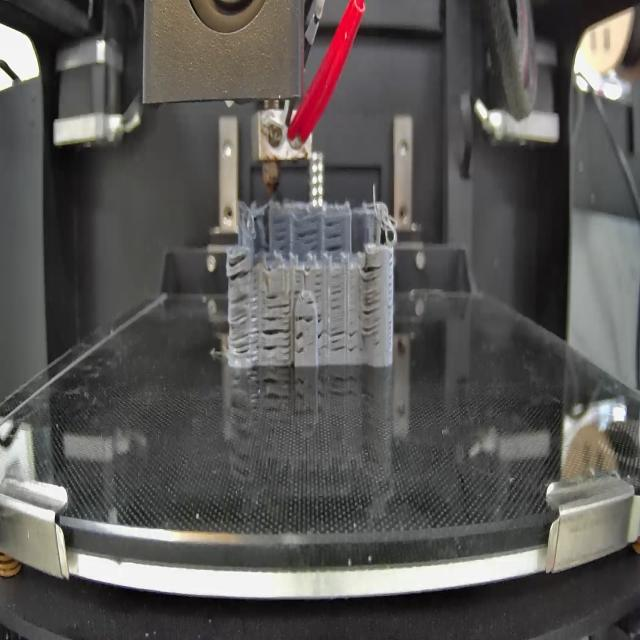cracks: (230, 296, 260, 361), (360, 262, 383, 338), (262, 316, 290, 362), (228, 249, 253, 287), (296, 220, 322, 253), (331, 326, 359, 356), (266, 290, 294, 313), (326, 216, 344, 251), (272, 216, 290, 250), (330, 275, 344, 313), (317, 310, 327, 354), (292, 264, 304, 296), (295, 331, 306, 357), (313, 271, 323, 298), (296, 315, 316, 324), (301, 297, 316, 307)
